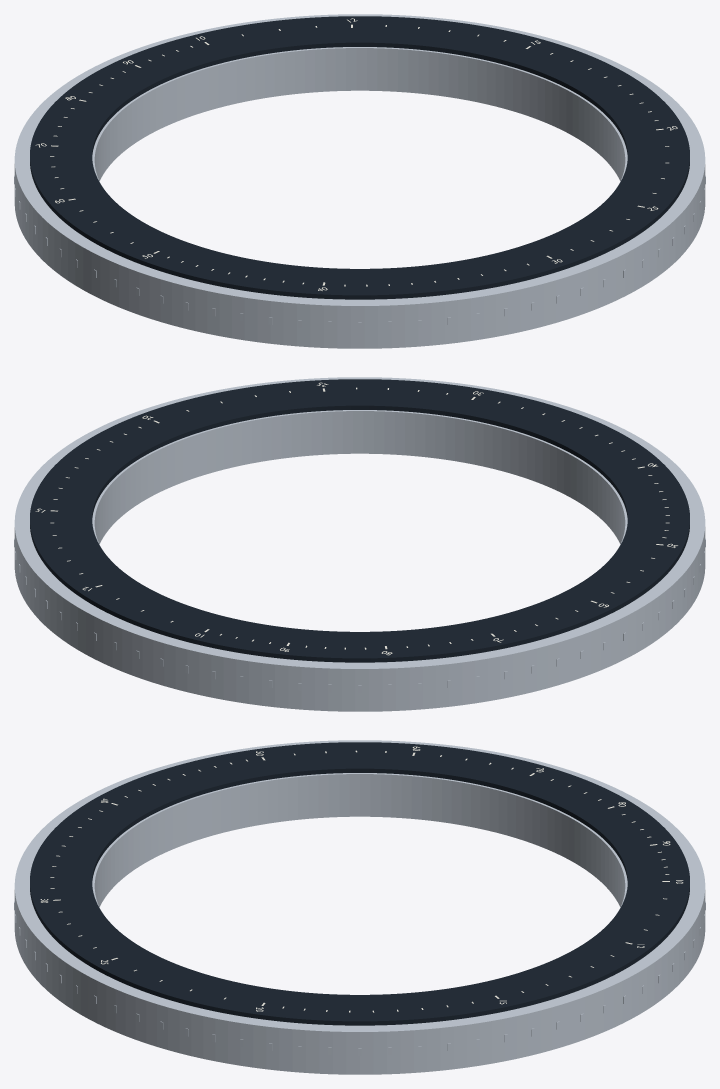
The model's file is bezel-pilot.glb.
3 renders of one model, top to bottom at view 1: azimuth 30°, elevation 25°; view 2: azimuth 150°, elevation 25°; view 3: azimuth 270°, elevation 25°, orthographic.
Visible parts, largest first — view 1: DD_ARCH_BEZEL_CARRIER, DD_SCALE_SURFACE_OUTER, DD_ARCH_BEZEL_INSERT; view 2: DD_ARCH_BEZEL_CARRIER, DD_SCALE_SURFACE_OUTER, DD_ARCH_BEZEL_INSERT; view 3: DD_ARCH_BEZEL_CARRIER, DD_SCALE_SURFACE_OUTER, DD_ARCH_BEZEL_INSERT.
Part boxes in pixels (x1,y1,x2,y2): DD_ARCH_BEZEL_CARRIER: [14, 14, 705, 348]; DD_SCALE_SURFACE_OUTER: [30, 16, 689, 295]; DD_ARCH_BEZEL_INSERT: [30, 42, 689, 299]; DD_ARCH_BEZEL_CARRIER: [14, 377, 705, 711]; DD_SCALE_SURFACE_OUTER: [30, 379, 689, 658]; DD_ARCH_BEZEL_INSERT: [30, 405, 689, 662]; DD_ARCH_BEZEL_CARRIER: [14, 740, 705, 1074]; DD_SCALE_SURFACE_OUTER: [30, 742, 689, 1021]; DD_ARCH_BEZEL_INSERT: [30, 768, 689, 1025].
Size of the model in its own units: 41.08 by 3.1 by 41.08.
